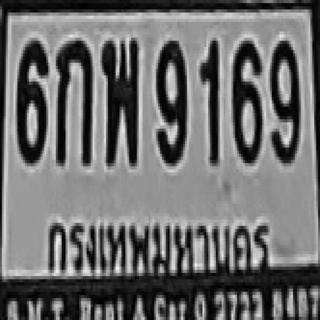A01: (54, 38, 91, 163)
A30: (100, 34, 137, 163)
N01: (199, 38, 218, 163)
N06: (15, 38, 46, 160), (231, 38, 260, 160)
N09: (154, 38, 185, 163), (269, 38, 300, 163)
P04: (37, 207, 281, 287)
